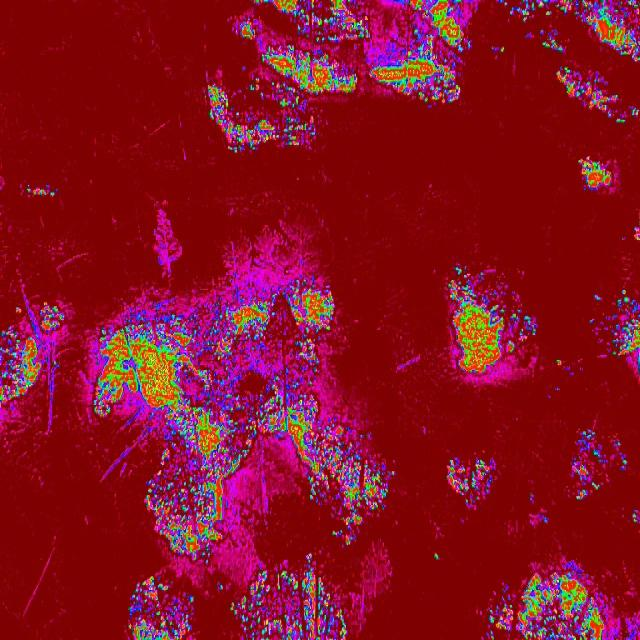fire: (230, 270, 396, 528), (91, 298, 232, 562), (231, 0, 474, 110), (479, 552, 613, 640), (447, 264, 539, 378), (231, 552, 349, 640), (0, 298, 69, 407), (229, 109, 317, 160), (124, 577, 195, 640), (556, 63, 624, 124), (583, 0, 640, 61), (571, 428, 610, 503), (446, 454, 498, 510), (610, 287, 640, 379), (498, 0, 584, 21), (576, 156, 616, 192), (205, 86, 229, 136), (527, 28, 565, 53), (24, 182, 60, 202), (613, 435, 629, 470), (332, 532, 360, 549), (630, 506, 640, 530), (489, 42, 507, 52), (632, 220, 640, 240), (629, 106, 640, 120), (592, 292, 601, 303), (434, 550, 441, 564), (554, 358, 562, 367), (589, 318, 597, 326), (219, 582, 223, 592)
